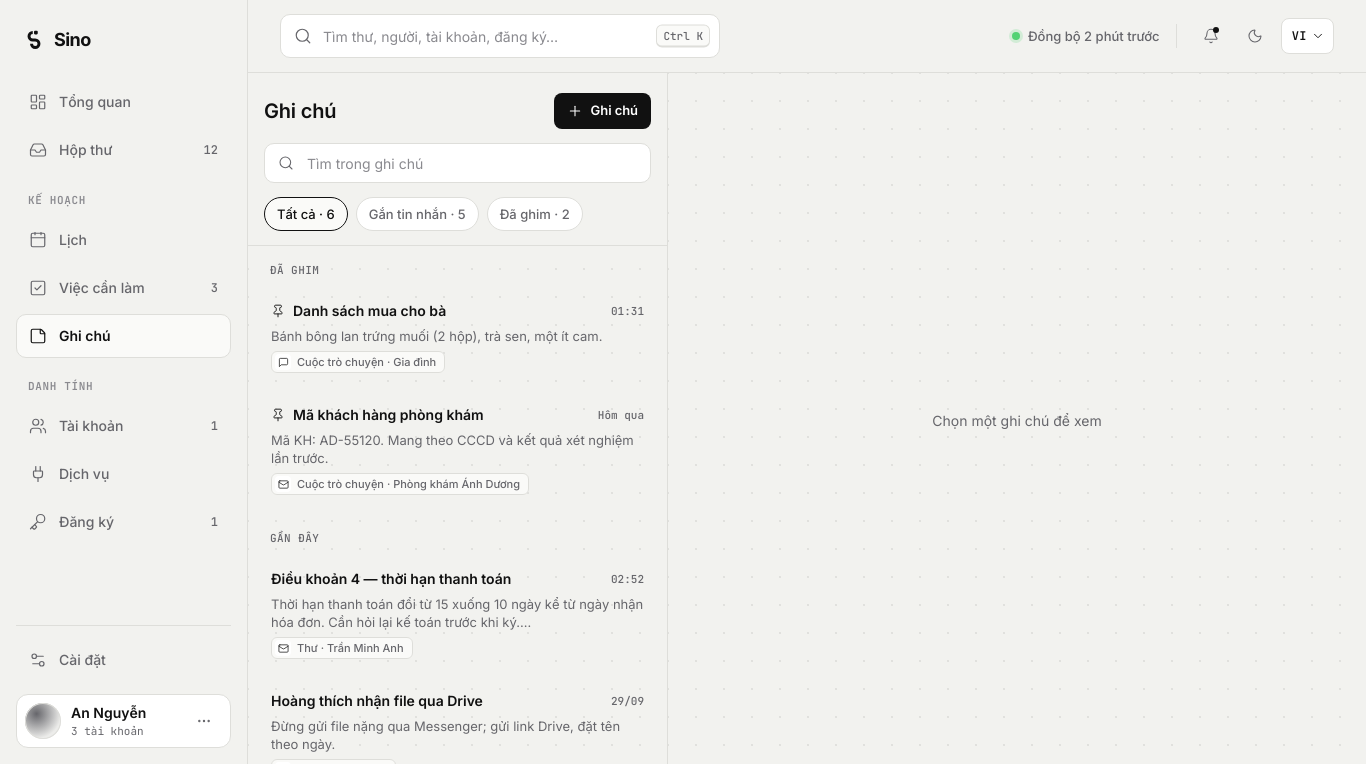
Ghi chú on desktop (NT-02, fe-ui-notes) › makes a new note once it has text, under its own address, keeping the typing going (D-203)
Click the link "Ghi chú" below "Ctrl K".
click(602, 111)  # box top-left (554, 93), bottom-right (651, 129)
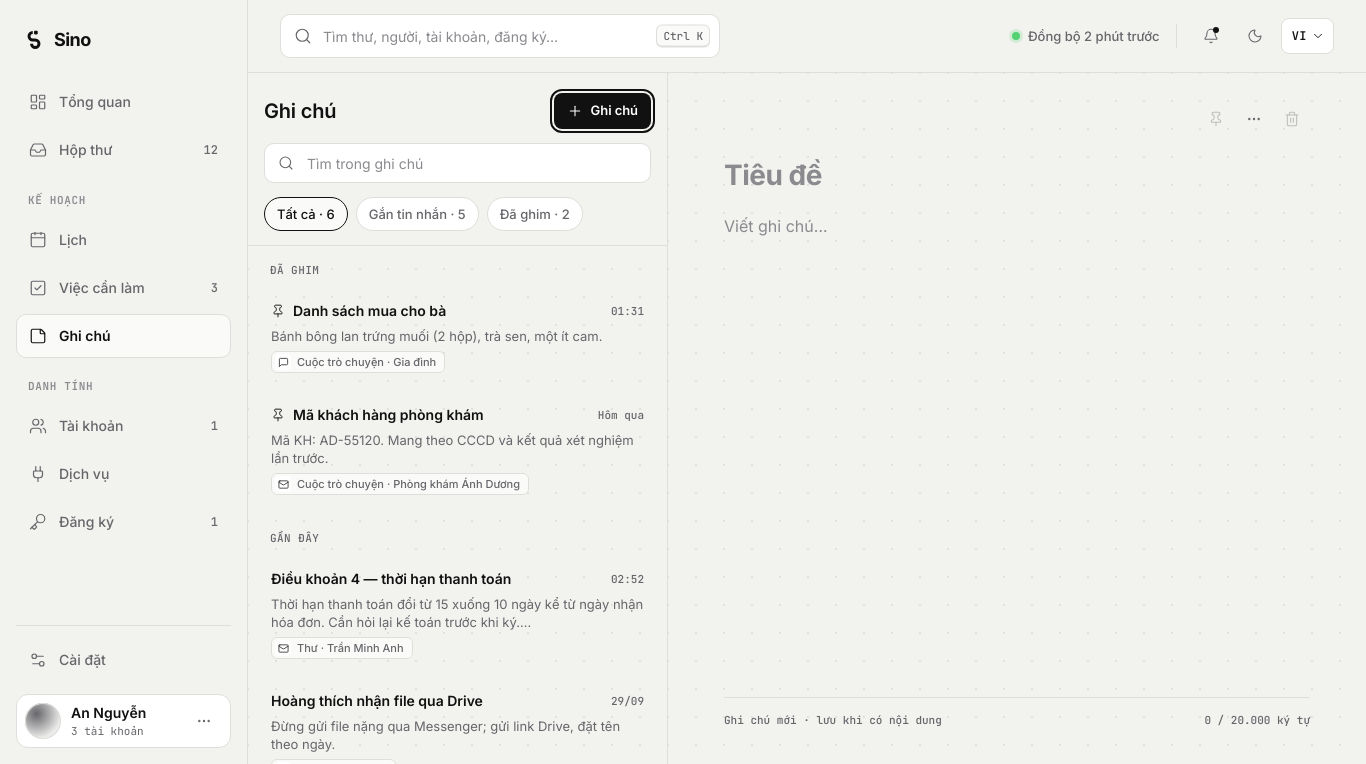
Type "Gọi lại cho phòng khám" into the text box named "Nội dung ghi chú".
click(1017, 445); type("Gọi lại cho phòng khám")  # box top-left (724, 213), bottom-right (1310, 677)
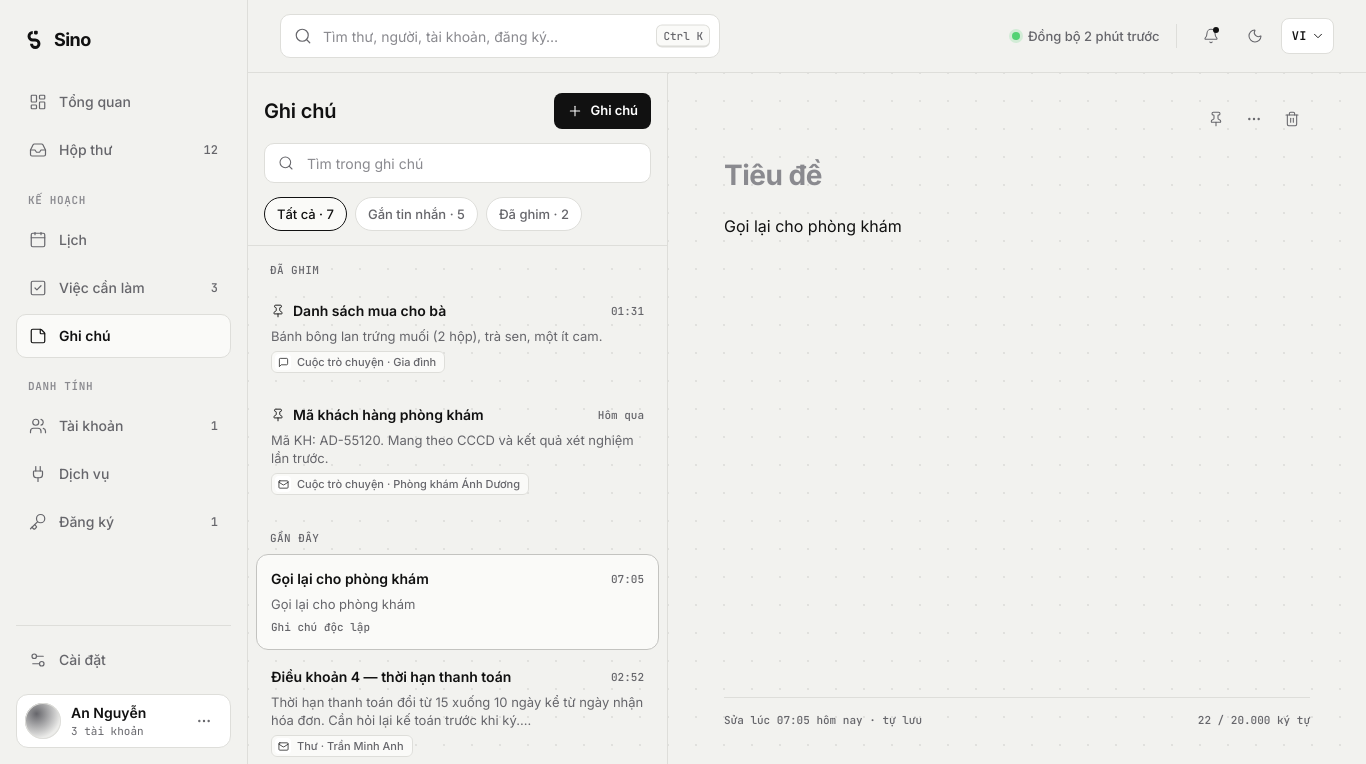
Expected: the text "Ghi chú độc lập" is shown, top-left (271, 619), bottom-right (370, 635)
Expected: the button "Tất cả · 7" is shown, top-left (264, 197), bottom-right (347, 231)
